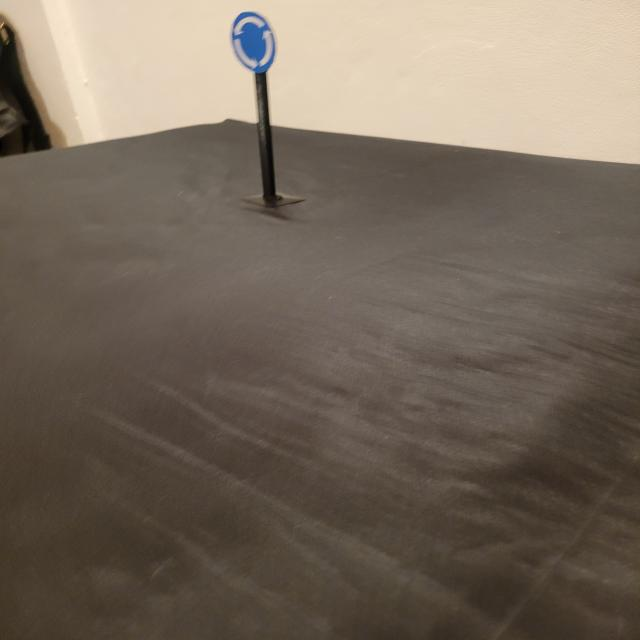round_about: (228, 11, 278, 74)
